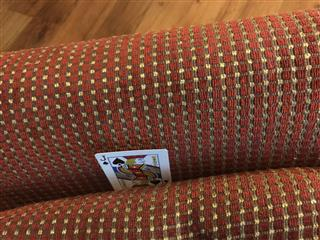JackOfSpades: (94, 148, 172, 190)
